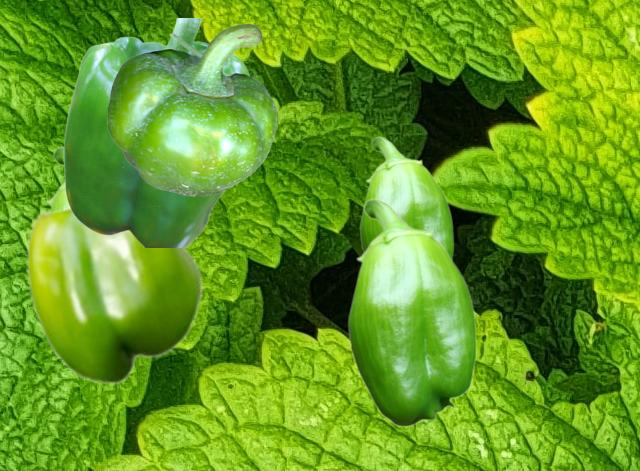bell_pepper: (63, 18, 250, 246), (26, 204, 202, 384), (347, 198, 476, 426), (107, 23, 276, 195), (359, 136, 453, 258), (46, 146, 67, 209)
